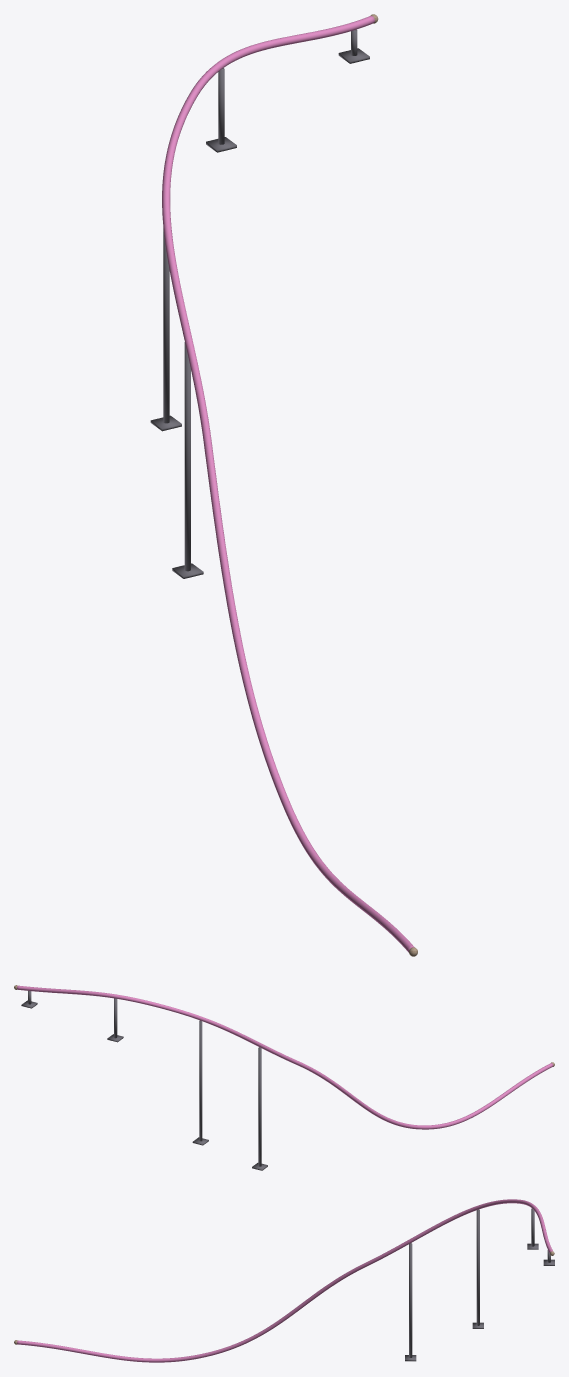
The model's file is Rail_HQ_Slide.glb.
The picture shows the model from 3 angles, top to bottom: view 1: azimuth 30°, elevation 25°; view 2: azimuth 150°, elevation 25°; view 3: azimuth 270°, elevation 25°; orthographic projection. The views are drawn at different scales.
Parts seen in each view (by area): view 1: Rail_HQ_Slide_Rail; view 2: Rail_HQ_Slide_Rail; view 3: Rail_HQ_Slide_Rail.
Part boxes in pixels (bbox=[...]): Rail_HQ_Slide_Rail: bbox=[150, 15, 414, 952]; Rail_HQ_Slide_Rail: bbox=[17, 985, 553, 1170]; Rail_HQ_Slide_Rail: bbox=[17, 1199, 554, 1362].
Size of the model in its own units: 7.12 by 6.16 by 13.22.
2 materials, 1 textured.
